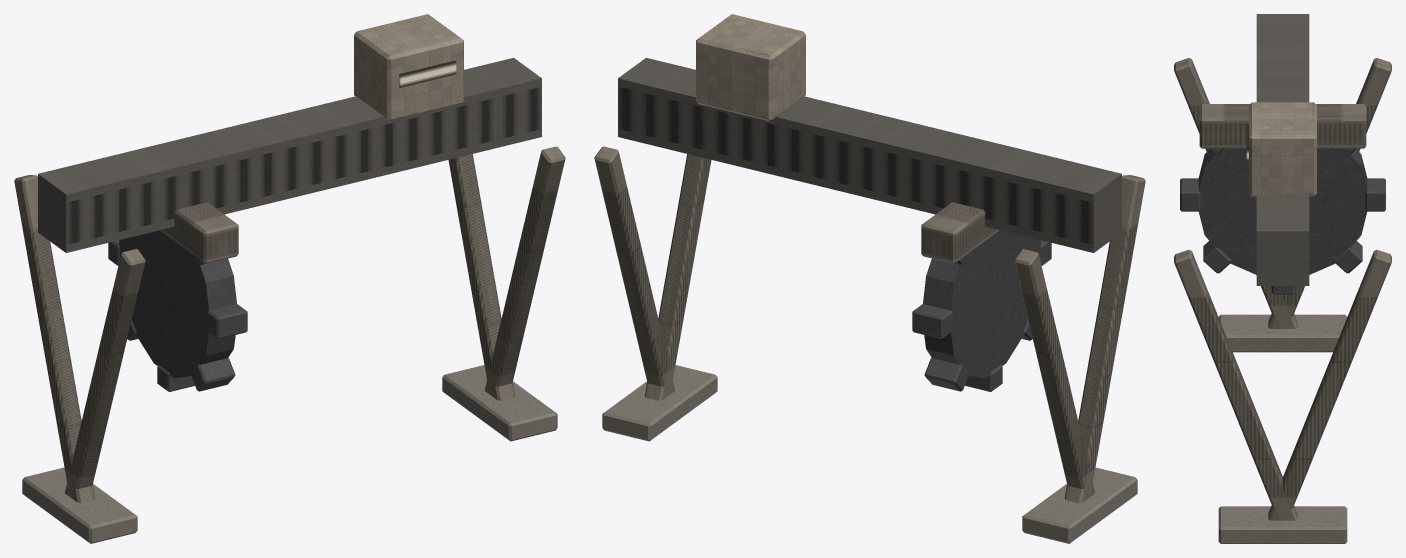
File: excavator_gantry.obj
3 views of the same model, side by side, from view 1: azimuth 30°, elevation 25°; view 2: azimuth 150°, elevation 25°; view 3: azimuth 270°, elevation 25° (orthographic). The views are drawn at different scales.
Parts seen in each view (by area): view 1: excavator_gantry; view 2: excavator_gantry; view 3: excavator_gantry.
Part boxes in pixels (x1,y1,x2,y2): excavator_gantry: [14, 14, 565, 543]; excavator_gantry: [594, 14, 1145, 543]; excavator_gantry: [1174, 14, 1391, 543].
Size of the model in its own units: 13.6 by 10.9 by 5.76.
Materials: 1 (1 with a texture image).
